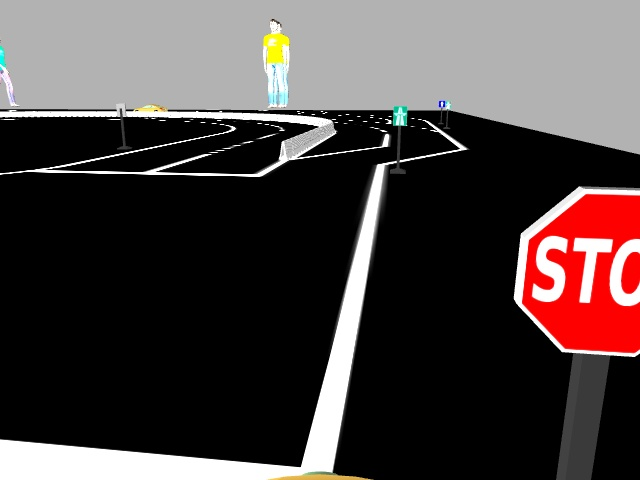Stop: (512, 182, 639, 359)
